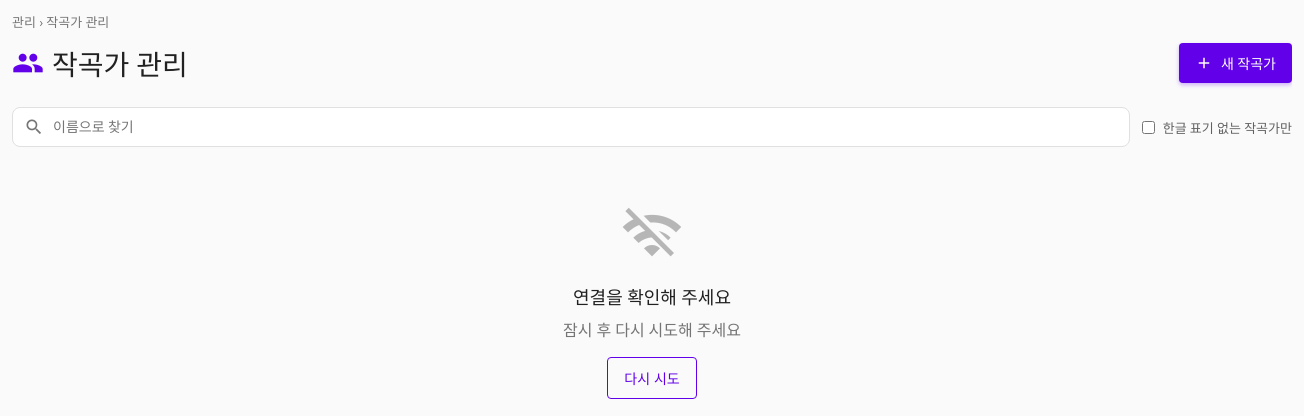
Test: ComposerAdminListPage — 로딩·실패·빈 상태 › 불러오기 실패 → '연결을 확인해 주세요' + '다시 시도' 로 재요청
Click the button "다시 시도" at (652, 378), box [607,357,697,399]
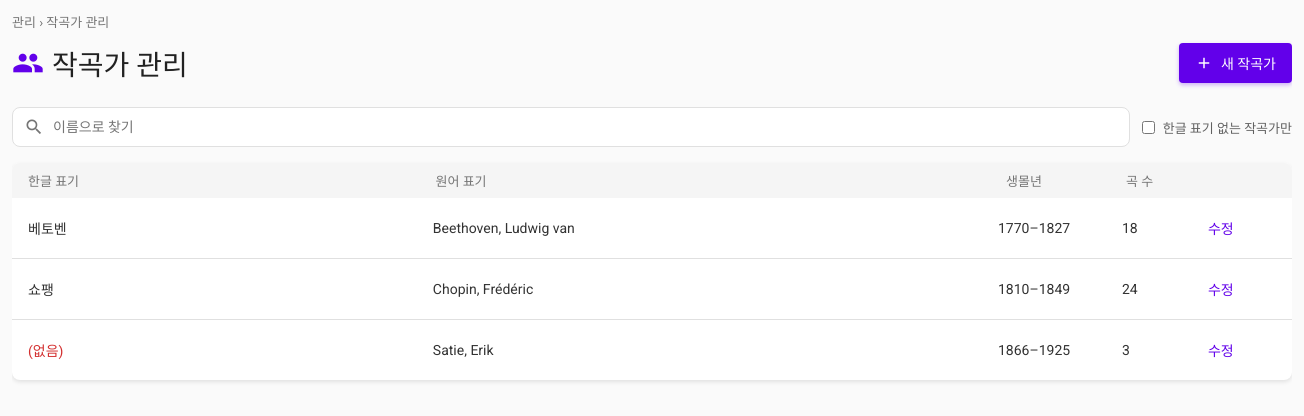
Check: the text "베토벤" is shown, box [28,221,67,237]
Check: the text "연결을 확인해 주세요" is gone
